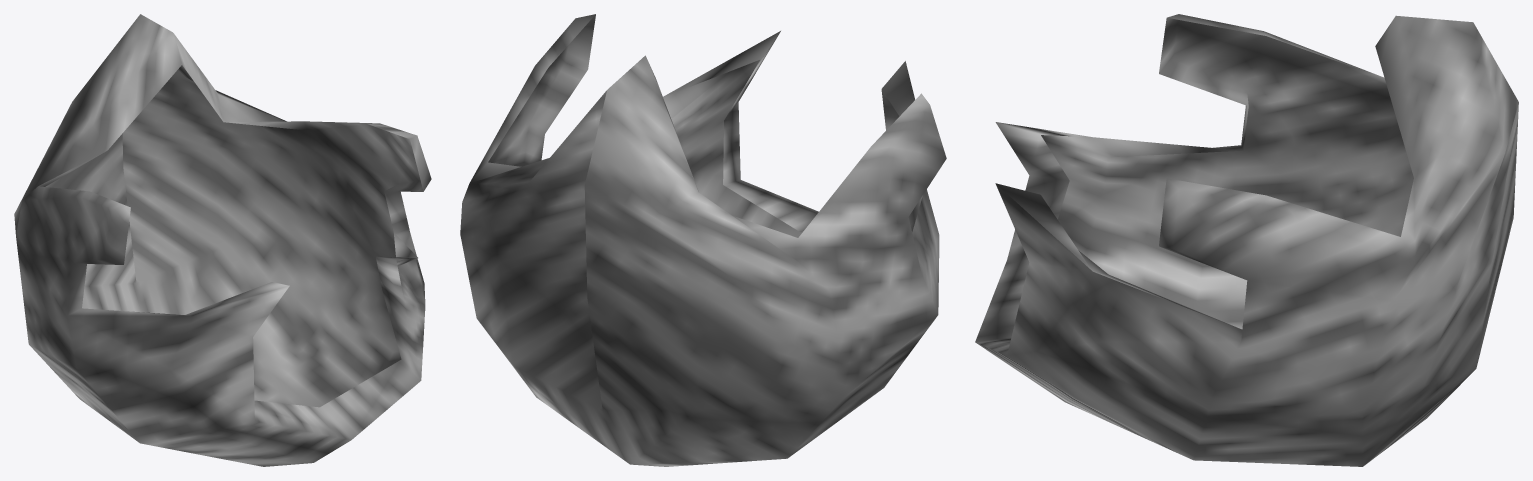
Rendered from Wig_M_Hair_Recede.fbx.
3 views of the same model, side by side, from view 1: azimuth 30°, elevation 25°; view 2: azimuth 150°, elevation 25°; view 3: azimuth 270°, elevation 25° (orthographic). The views are drawn at different scales.
Visible parts, largest first — view 1: BoxOfJars003; view 2: BoxOfJars003; view 3: BoxOfJars003.
Part boxes in pixels (x1,y1,x2,y2): BoxOfJars003: [14, 14, 431, 466]; BoxOfJars003: [460, 14, 946, 466]; BoxOfJars003: [975, 14, 1518, 466].
Bounding box in the file's own units: 12.37 × 12.5 × 14.19.
